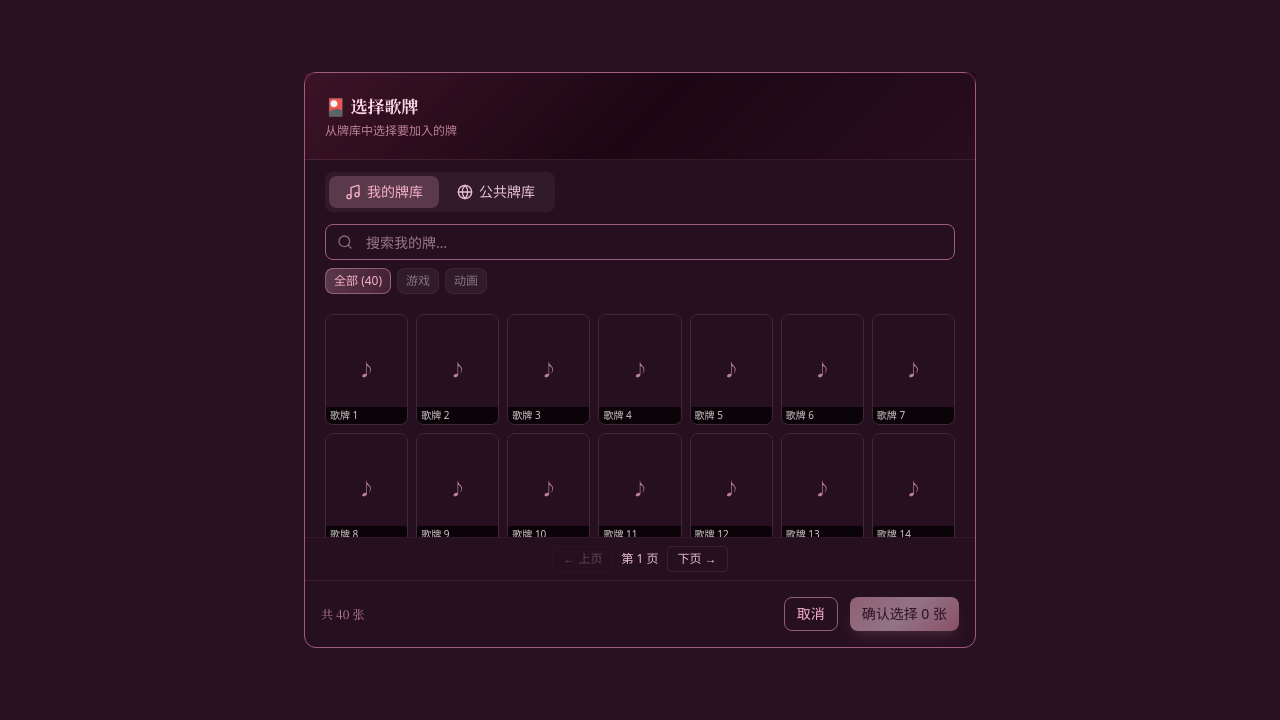
加入牌组时的牌库分页 › 慢请求返回后不会覆盖新来源的内容，加载期间禁止连续翻页
Expected: the text "歌牌 1" is shown, [330,408,358,422]
Click the button "下页 →" at point(697, 559), box [667,546,728,572]
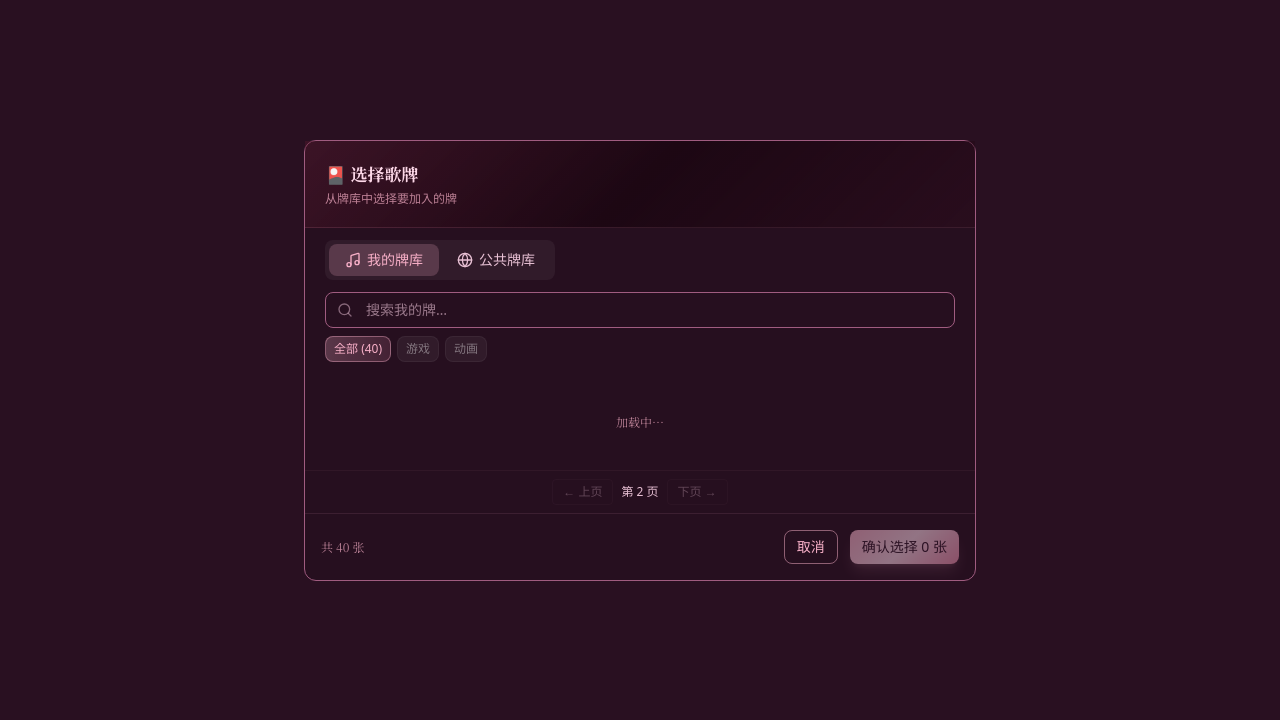
Expected: the button "← 上页" is disabled, [552,478,613,504]
Now the button "下页 →" is disabled, box [667,478,728,504]
Click the tab "公共牌库" at point(496, 260), box [441,244,551,276]
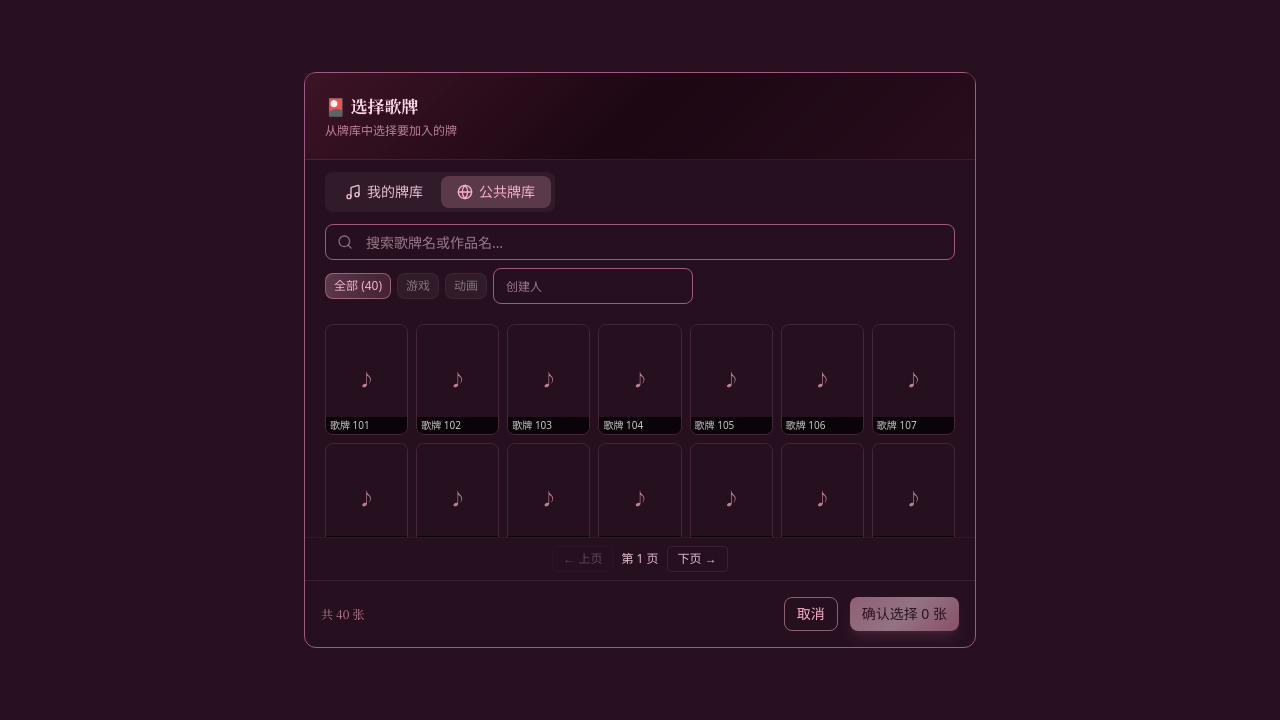
Now the text "歌牌 101" is shown, box [330,418,370,432]
Now the text "第 1 页" is shown, box [621,551,658,567]
